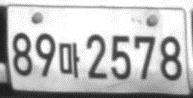2: (86, 33, 108, 80)
5: (110, 35, 131, 80)
7: (133, 36, 156, 81)
8: (159, 36, 183, 81), (12, 33, 33, 77)
9: (35, 33, 56, 78)
마: (58, 41, 80, 79)
